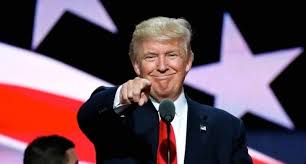hand: (115, 73, 157, 112)
